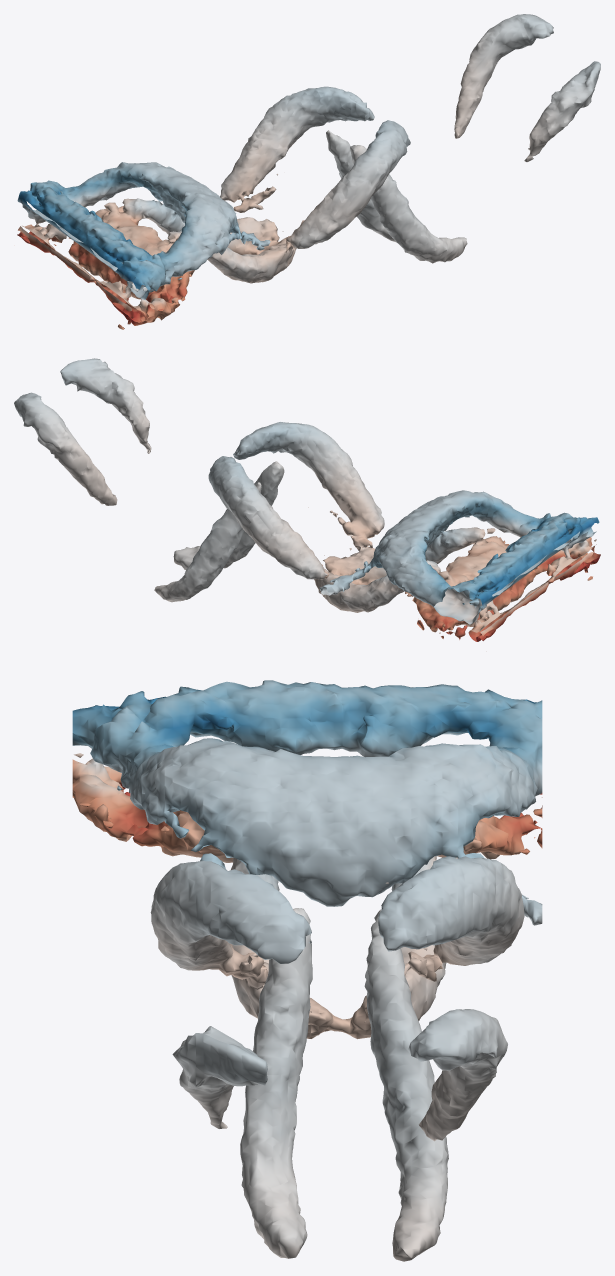
Rendered from q085-full.glb.
3 views of the same model, one above another, from view 1: azimuth 30°, elevation 25°; view 2: azimuth 150°, elevation 25°; view 3: azimuth 270°, elevation 25° (orthographic). The views are drawn at different scales.
Size of the model in its own units: 6.23 by 2.19 by 2.54.
